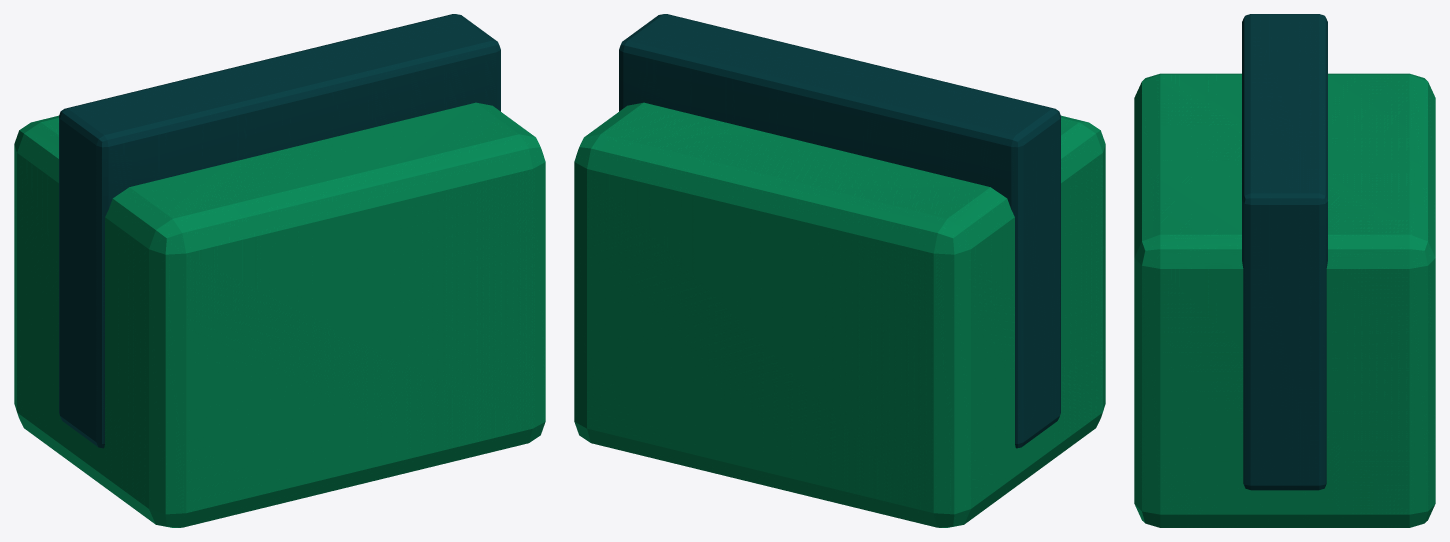
File: part_battery_cell.glb
The picture shows the model from 3 angles, left to right: view 1: azimuth 30°, elevation 25°; view 2: azimuth 150°, elevation 25°; view 3: azimuth 270°, elevation 25°; orthographic projection. The views are drawn at different scales.
Visible parts, largest first — view 1: part_battery_cell; view 2: part_battery_cell; view 3: part_battery_cell.
Part boxes in pixels (bbox=[...]): part_battery_cell: bbox=[14, 14, 545, 527]; part_battery_cell: bbox=[574, 14, 1105, 527]; part_battery_cell: bbox=[1134, 14, 1435, 527].
Size of the model in its own units: 0.205 by 0.176 by 0.14.
Materials: 1 (1 with a texture image).
